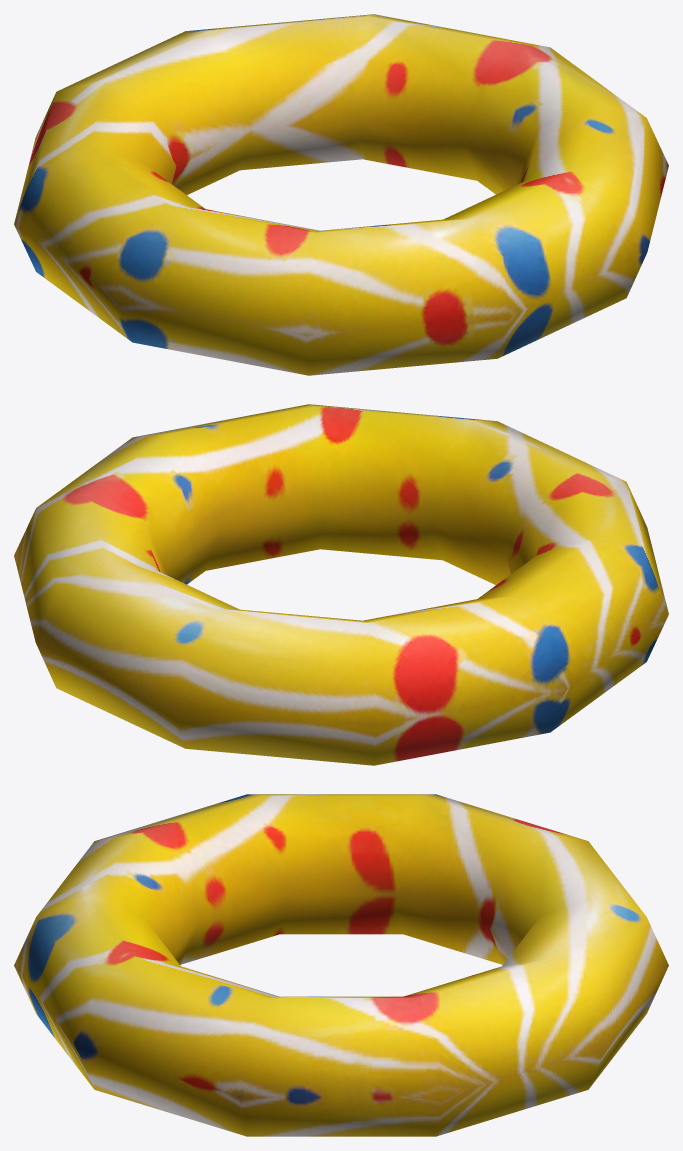
Rendered from furni_0201006.FBX.
3 renders of one model, top to bottom at view 1: azimuth 30°, elevation 25°; view 2: azimuth 150°, elevation 25°; view 3: azimuth 270°, elevation 25°, orthographic. The views are drawn at different scales.
Visible parts, largest first — view 1: furni_0201006; view 2: furni_0201006; view 3: furni_0201006.
Boxes of the visible parts, x1,y1,x2,y2 form: furni_0201006: (14, 14, 668, 375); furni_0201006: (14, 404, 668, 765); furni_0201006: (14, 794, 668, 1136).
Bounding box in the file's own units: 103 × 24.94 × 108.
Materials: 1 (1 with a texture image).
